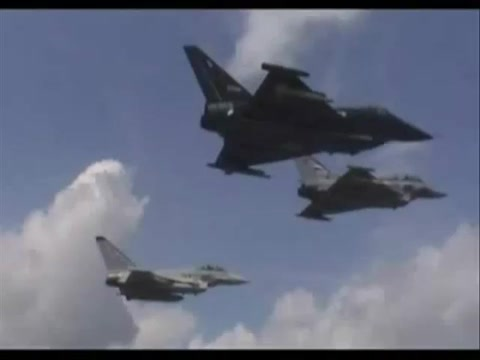aeroplane: (183, 45, 436, 181)
